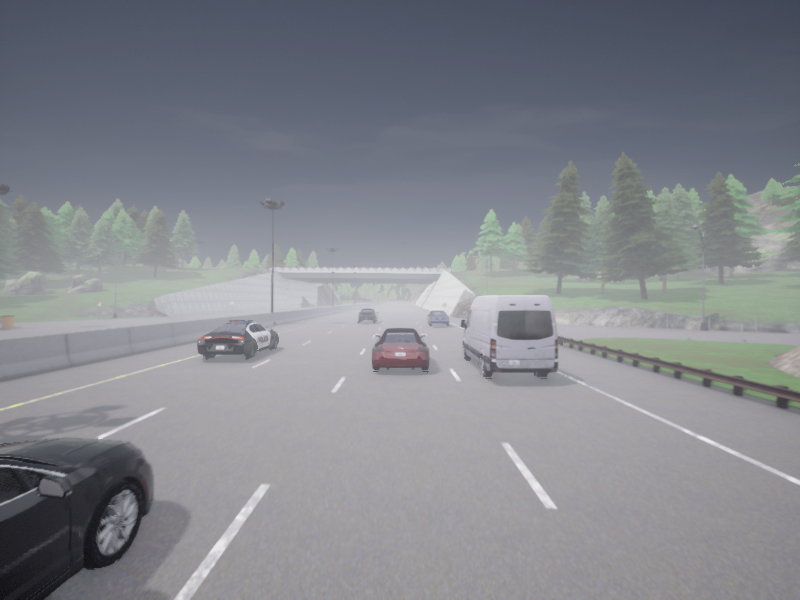vehicle: (0, 438, 152, 599), (460, 295, 557, 377), (197, 320, 277, 358), (372, 328, 428, 370), (426, 311, 448, 325), (358, 308, 378, 322)
